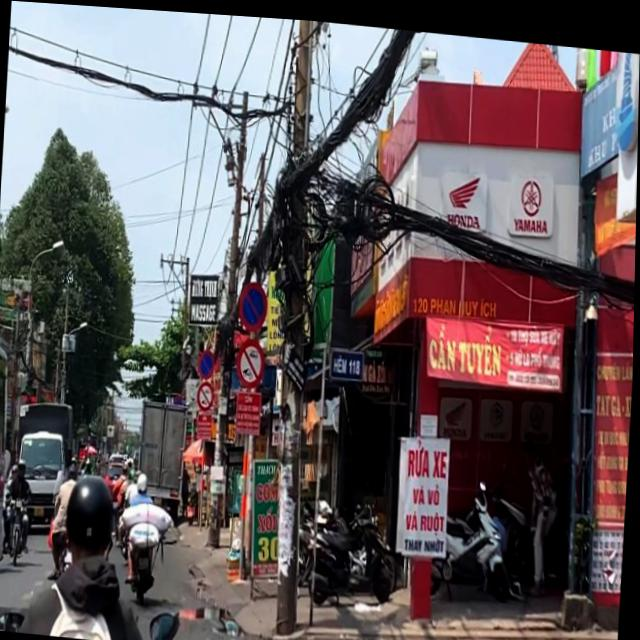Cam do xe: (237, 275, 270, 331), (198, 346, 217, 378)
